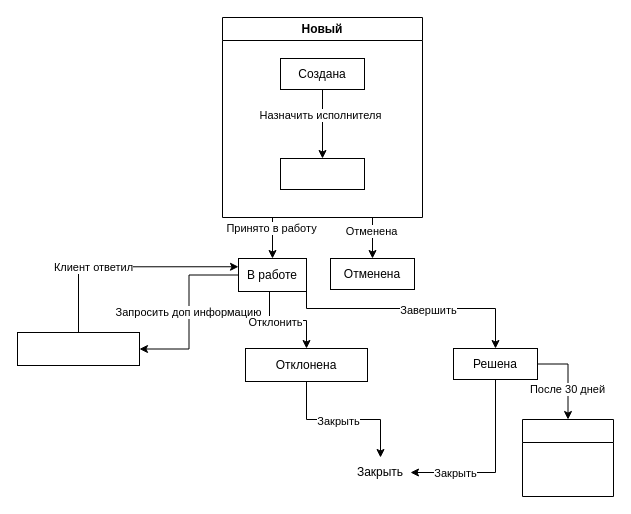
The diagram is 631 pixels wide and 514 high, and some of its shapes have lost their labels. The centre of each missing label's shape, as x and y in pixels:
Архив: [568,457]
На согласовании: [78,349]
Назначен: [322,174]
